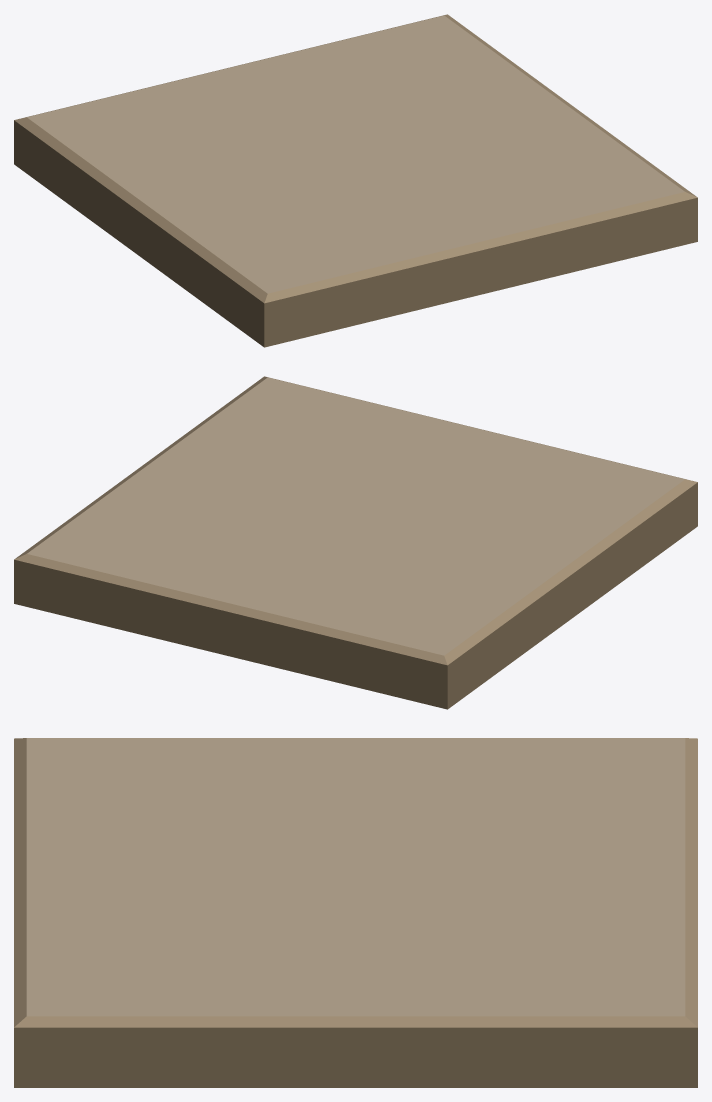
The model's file is Bottom_B1.fbx.
3 views of the same model, one above another, from view 1: azimuth 30°, elevation 25°; view 2: azimuth 150°, elevation 25°; view 3: azimuth 270°, elevation 25° (orthographic). The views are drawn at different scales.
Visible parts, largest first — view 1: Bottom_B1; view 2: Bottom_B1; view 3: Bottom_B1.
Boxes of the visible parts, left/top/right/bottom form: Bottom_B1: left=14, top=14, right=697, bottom=347; Bottom_B1: left=14, top=376, right=697, bottom=709; Bottom_B1: left=14, top=738, right=697, bottom=1087.
Bounding box in the file's own units: 623 × 66.63 × 623.
